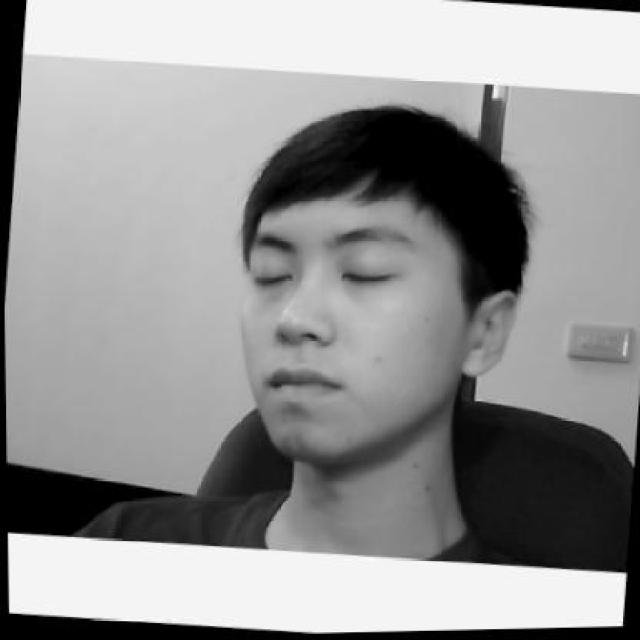inattentif: (224, 90, 536, 478)
